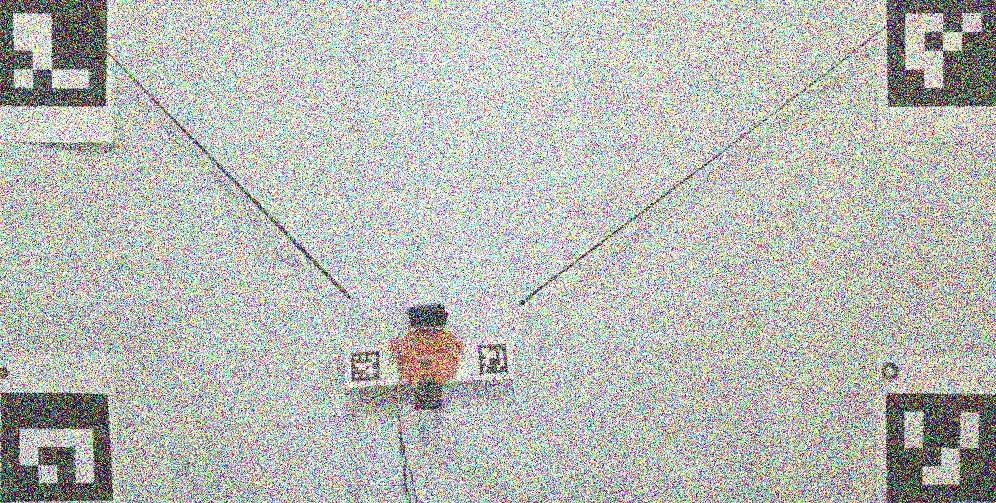robot: (391, 305, 464, 411)
